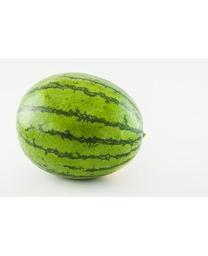watermelon: (16, 73, 145, 180)
